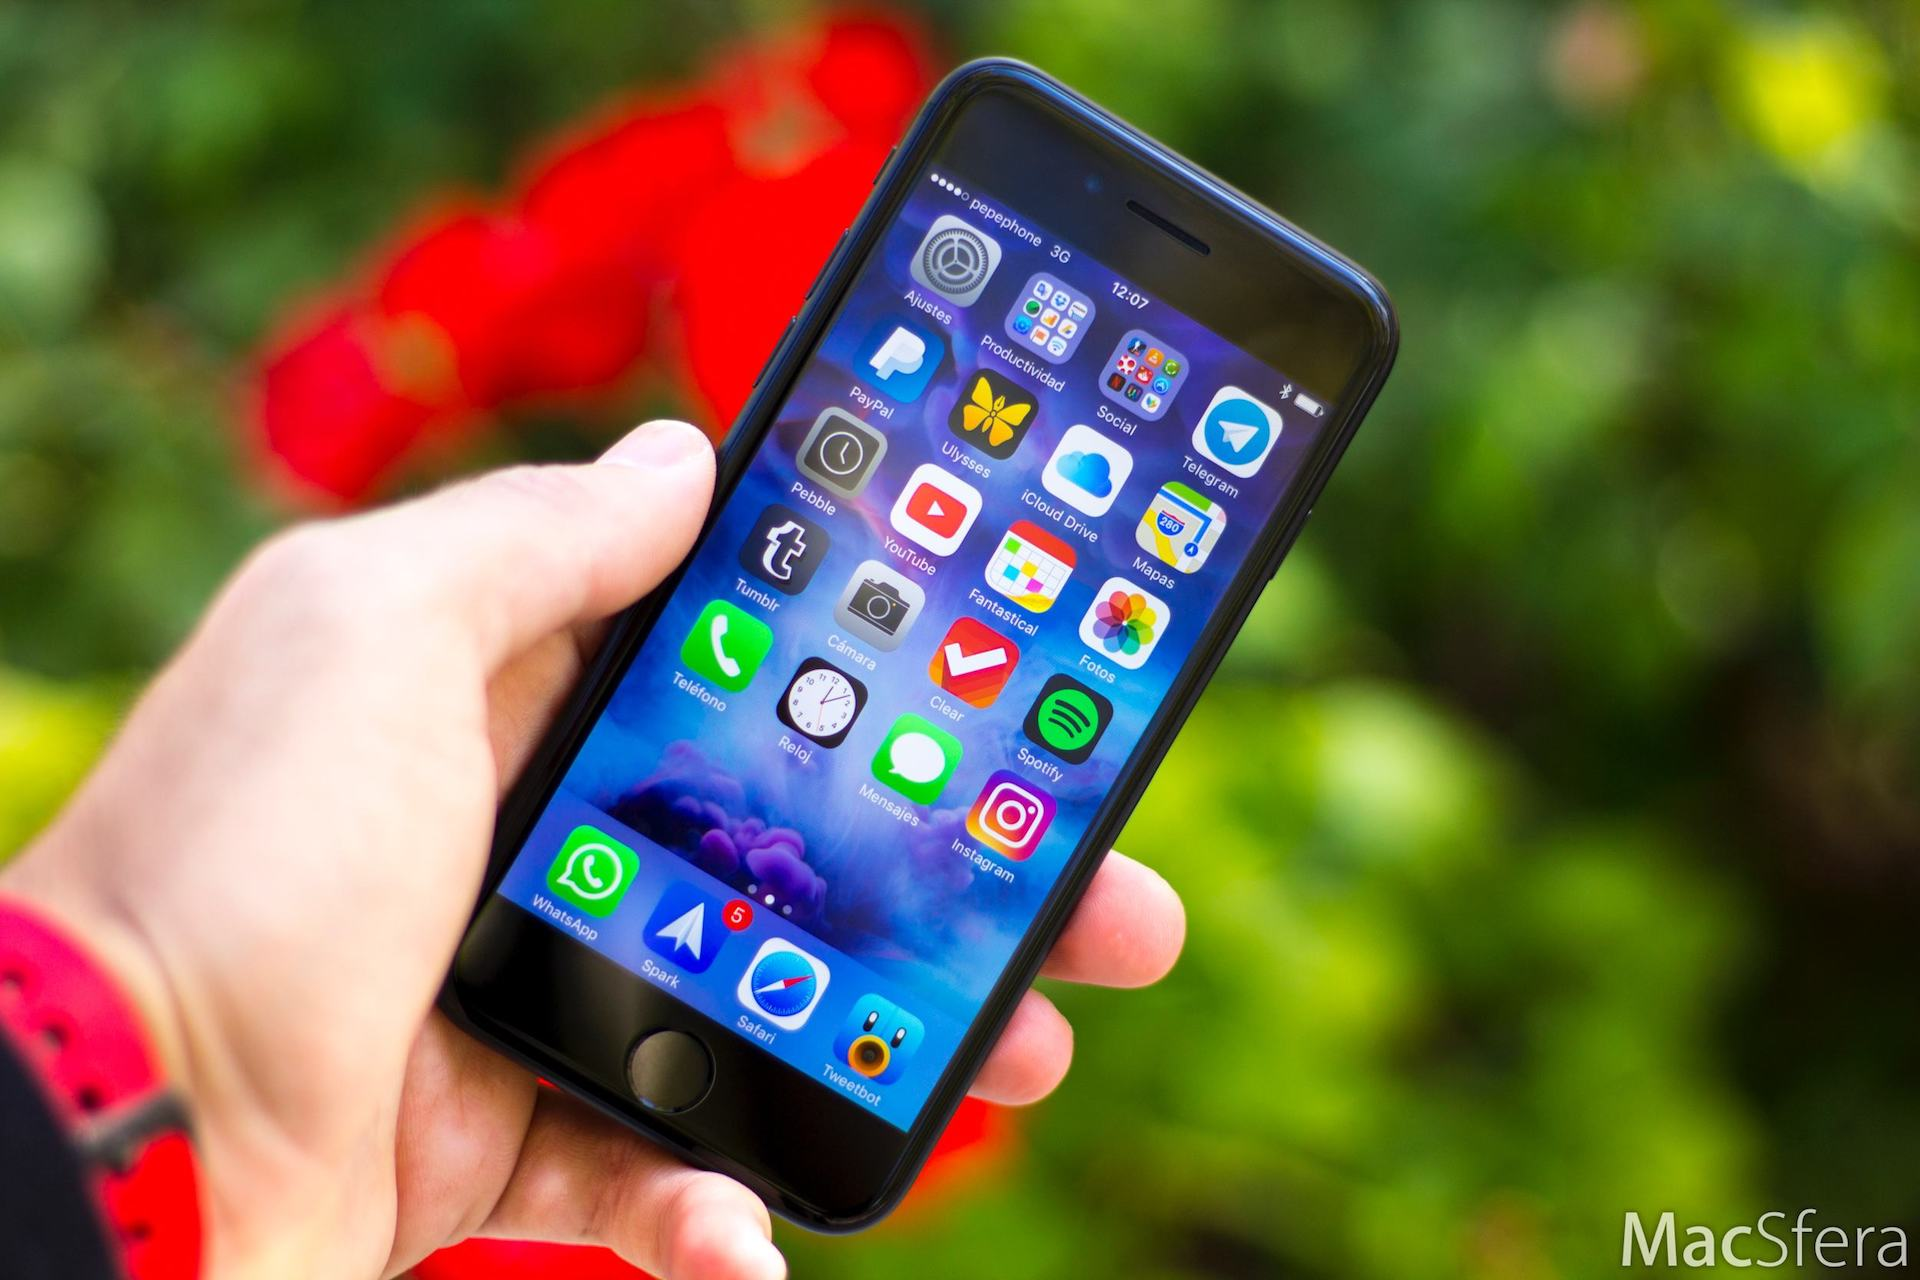smartphone: (429, 51, 1400, 1240)
